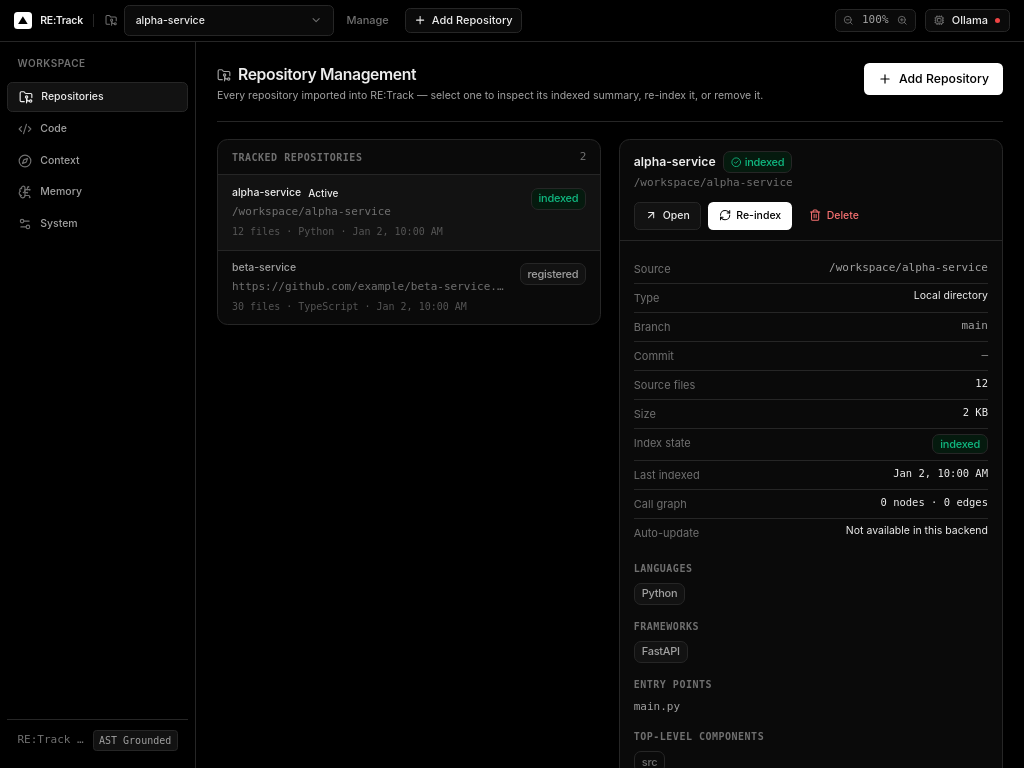
it: Repository Management — startup hydration & lifecycle › opens Add Repository from the labeled action and adds the new repository without losing existing ones
This screenshot has width=1024, height=768.
Expected: the 1st text "alpha-service" is shown, [136,14,205,28]
Click the 1st button titled "Add or import repository": (464, 21) [405,8,522,33]
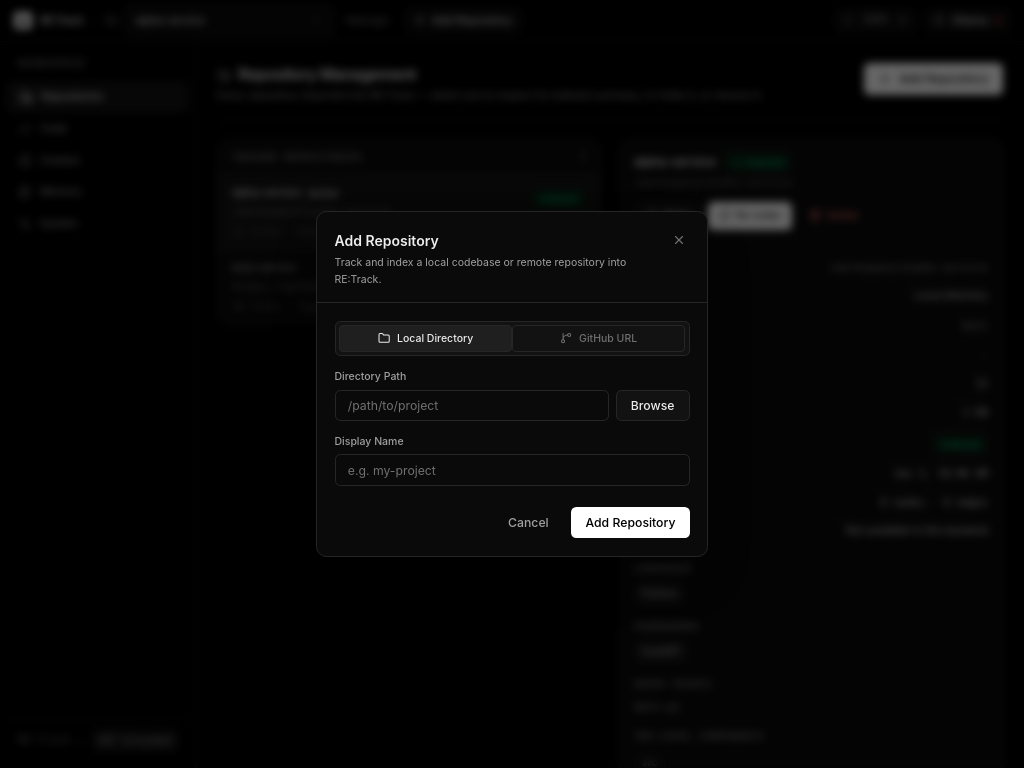
Result: the text "Track and index a local codebase or remote repository into RE:Track." is shown at [334,254,668,288]
In the field with placeholder "/path/to/project": (472, 405) [334,390,609,421], type "/workspace/gamma-service"
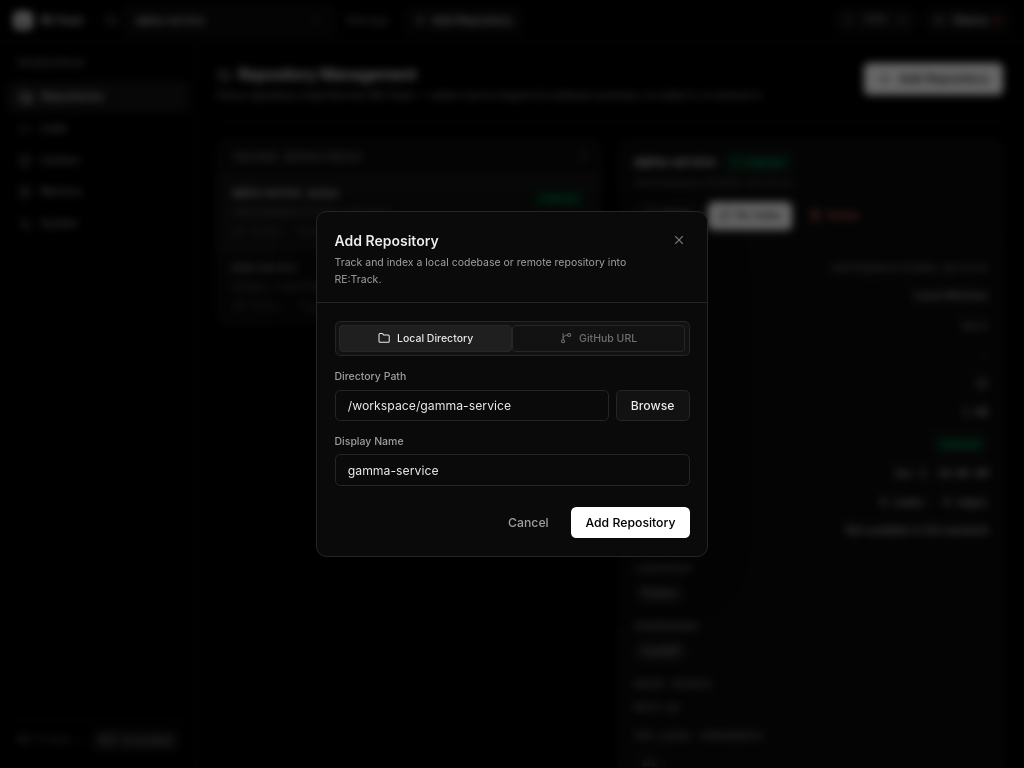
Click the button "Add Repository": (630, 523) [572,507,690,538]
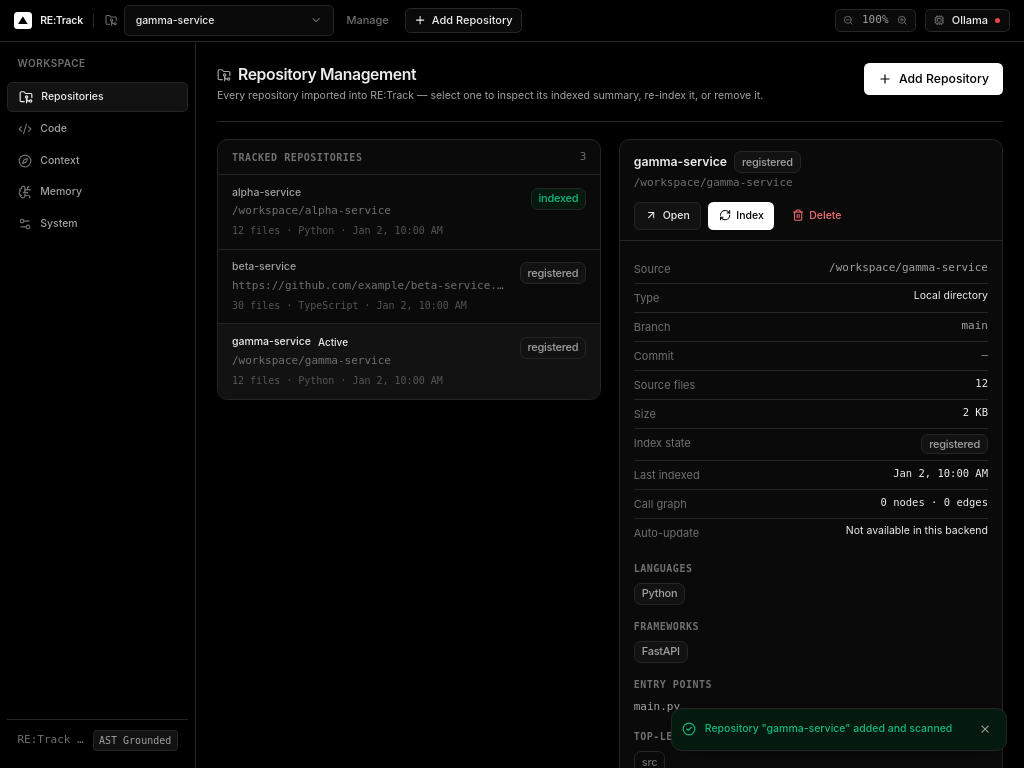
Expected: the text "alpha-service" is shown, [232,186,301,200]
Result: the 1st text "gamma-service" is shown at [136,14,214,28]
